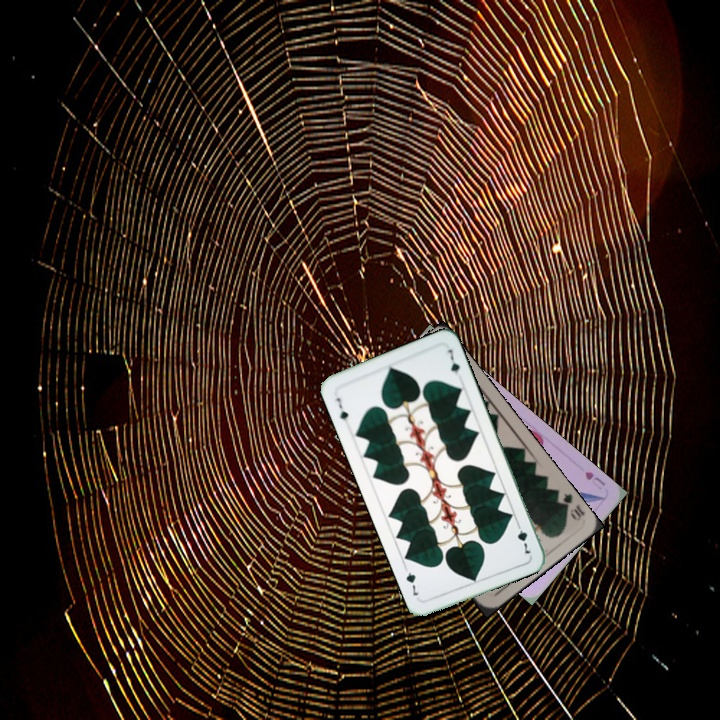G10: (553, 489, 588, 522)
G7: (512, 518, 534, 556), (332, 394, 351, 428)
HU: (580, 467, 608, 492)
